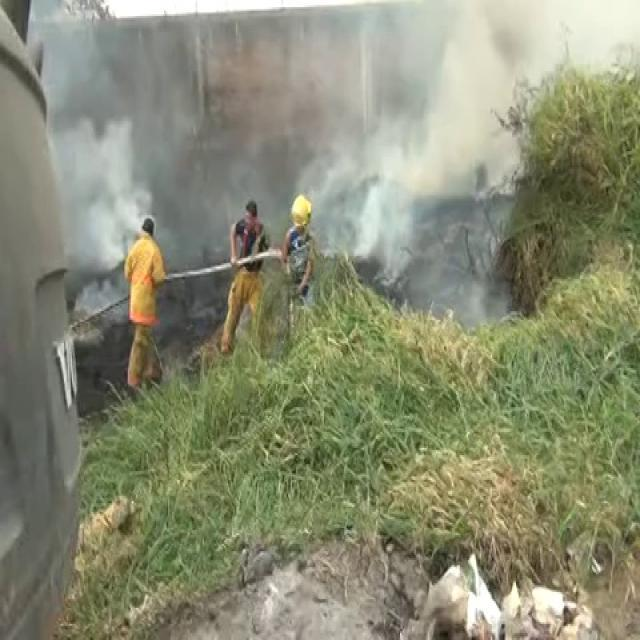Smoke: (23, 0, 637, 283)
